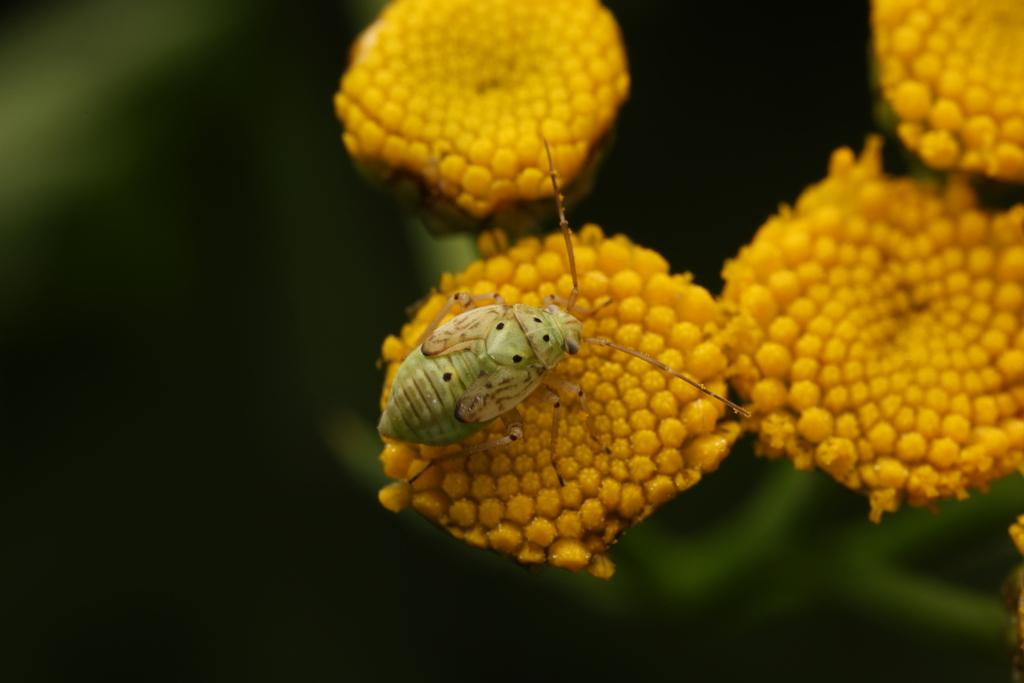plant_bugs: (326, 107, 757, 555)
